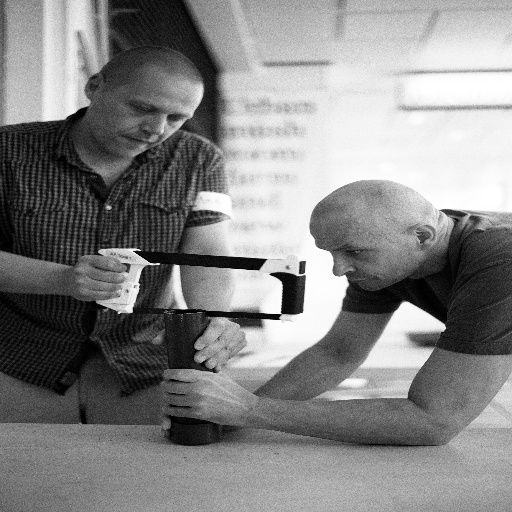hand: (159, 369, 280, 435), (151, 316, 249, 371), (68, 253, 126, 302), (155, 402, 240, 432)
